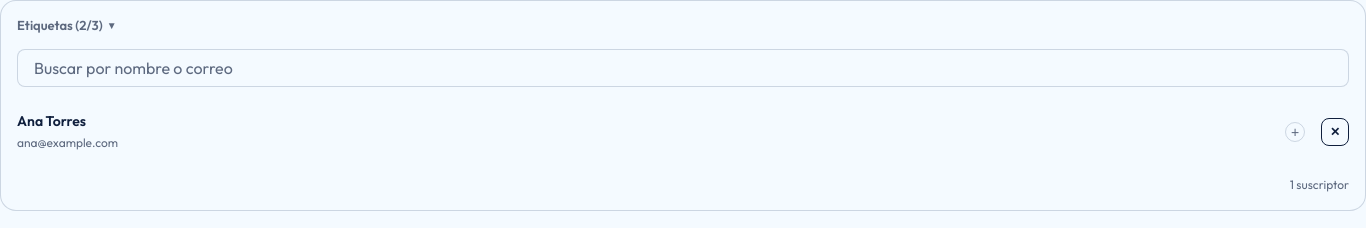
Test: SubscribersList › shows the assign-label dropdown when the + button is clicked
Click the button named "Etiquetar a Ana Torres". click: (1295, 132)
box: [1285,122,1305,142]
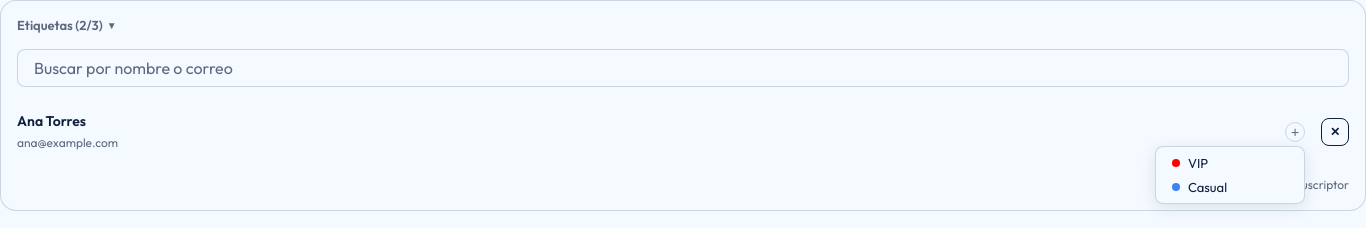
expect the text "VIP" is shown: met, box [1188,154,1208,170]
expect the text "Casual" is shown: met, box [1188,178,1227,194]
